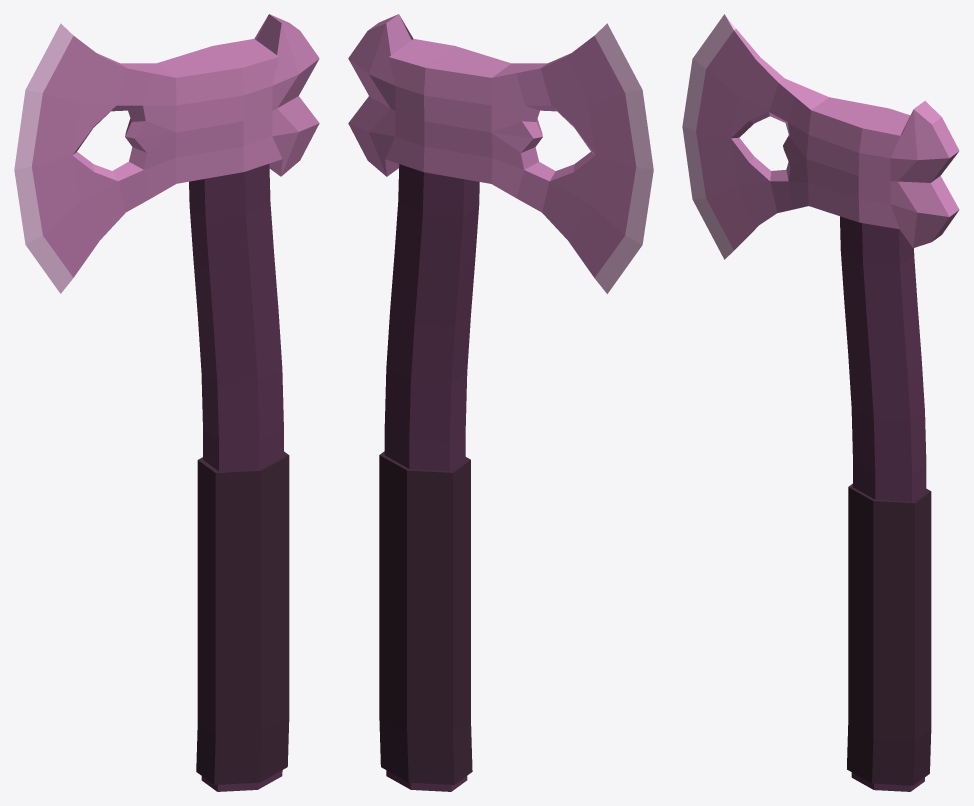
The model's file is axe_charm.fbx.
The picture shows the model from 3 angles, left to right: view 1: azimuth 30°, elevation 25°; view 2: azimuth 150°, elevation 25°; view 3: azimuth 330°, elevation 25°; orthographic projection. The views are drawn at different scales.
Parts seen in each view (by area): view 1: Handle.005, Blade.005; view 2: Handle.005, Blade.005; view 3: Handle.005, Blade.005.
Part boxes in pixels (box(x1,y1,x2,y2)): Handle.005: box(189, 164, 289, 791); Blade.005: box(14, 14, 319, 293); Handle.005: box(379, 164, 479, 791); Blade.005: box(348, 14, 653, 293); Handle.005: box(840, 216, 931, 791); Blade.005: box(682, 14, 959, 259).
Bounding box in the file's own units: 0.0513 × 0.627 × 0.2463.
